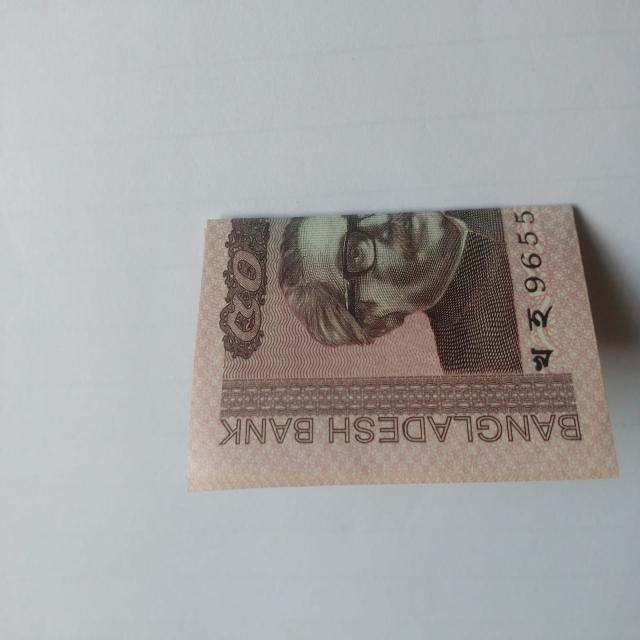Taka: (184, 194, 622, 506)
